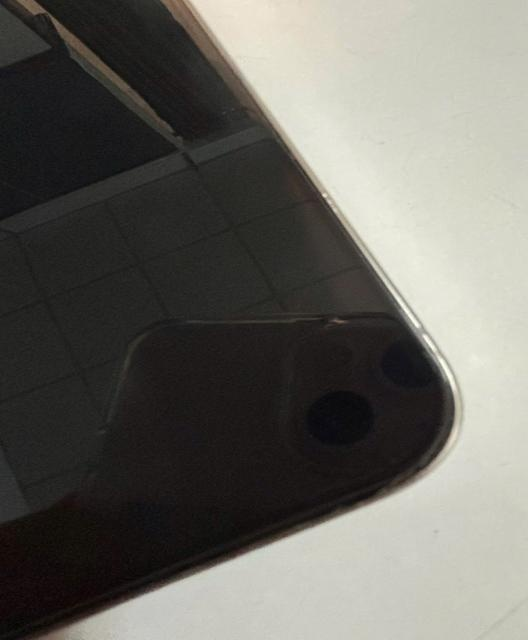scratch: (122, 581, 167, 601), (389, 465, 425, 485), (180, 562, 219, 579), (322, 190, 343, 219), (255, 529, 298, 542), (356, 488, 387, 506), (313, 507, 340, 516)
